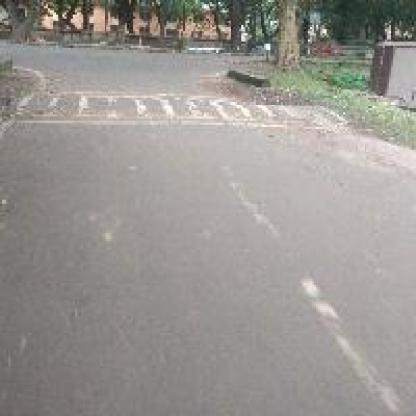Speed Bump: (6, 85, 350, 131)
